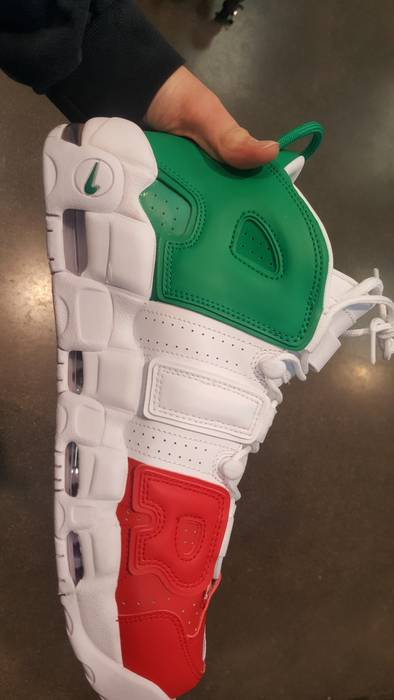Nike Air Uptempo '96 Italy: (30, 97, 380, 700)
